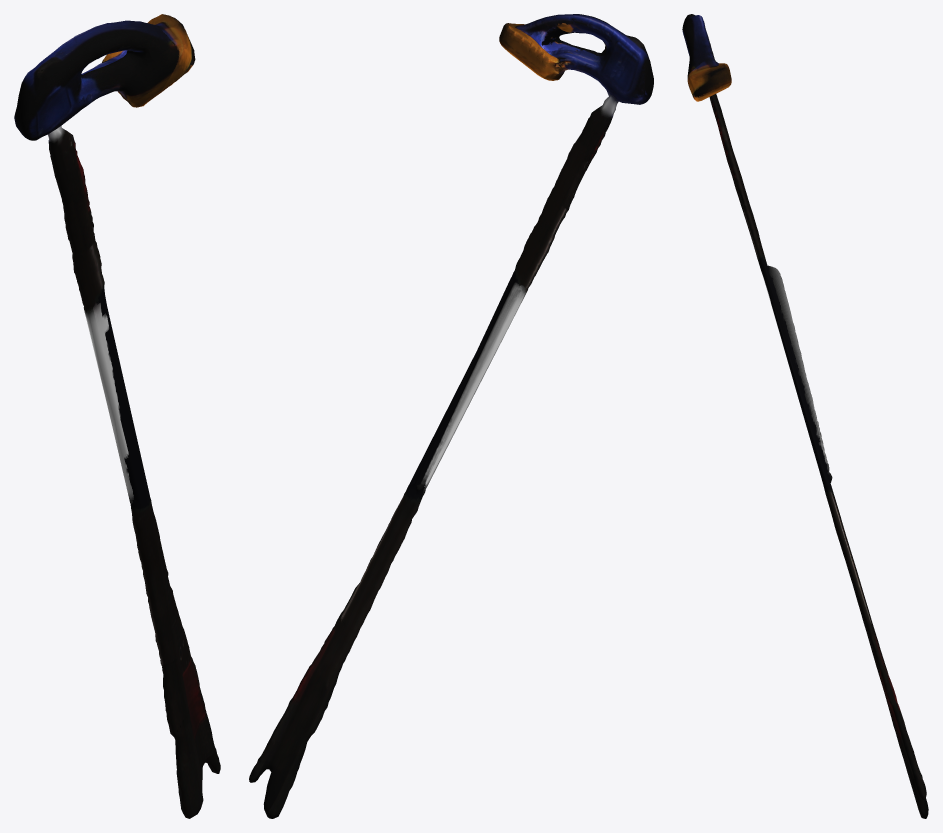
File: clamp_base.obj
3 renders of one model, left to right at view 1: azimuth 30°, elevation 25°; view 2: azimuth 150°, elevation 25°; view 3: azimuth 270°, elevation 25°, orthographic. The views are drawn at different scales.
Bounding box in the file's own units: 0.1811 × 0.47 × 0.1477.
1 material, 1 textured.
